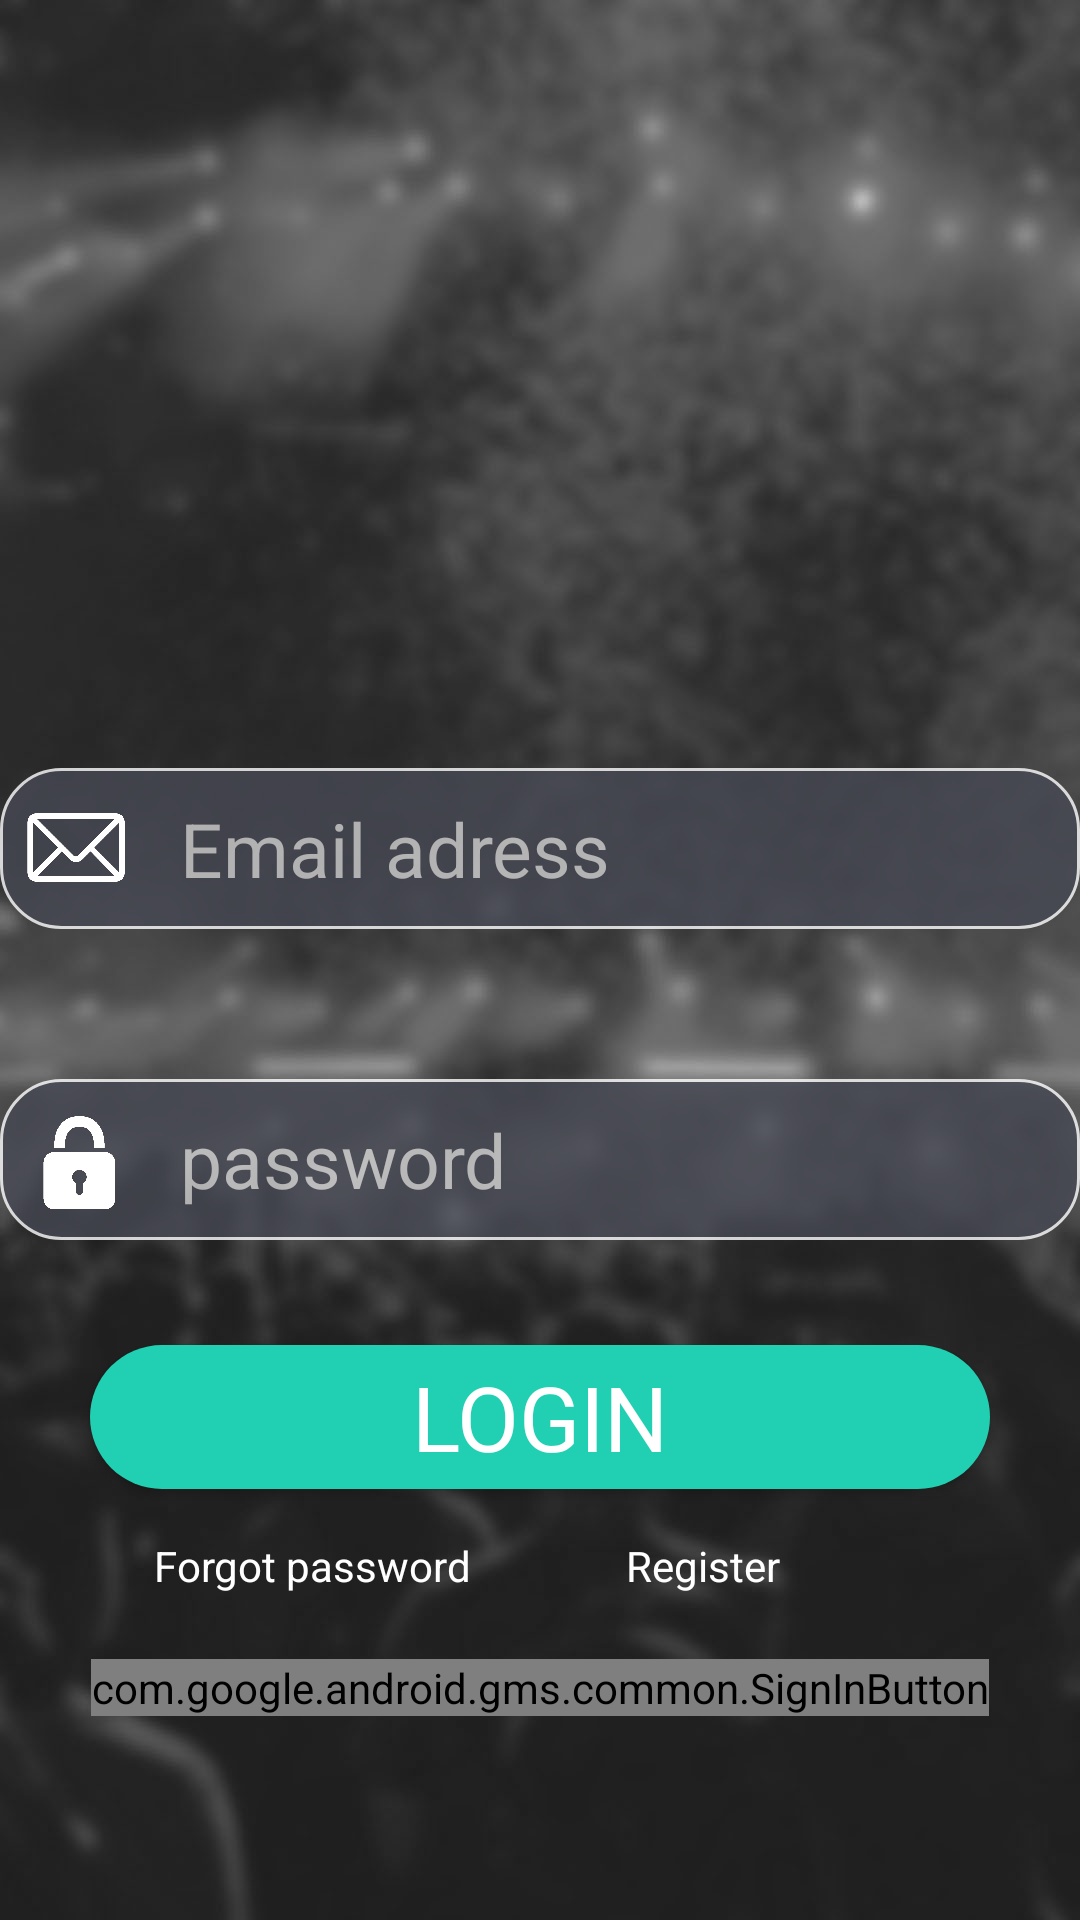

Named icons in this screenshot (1080 x 1920) and their centers, (x,y):
lock: (79,1162)
